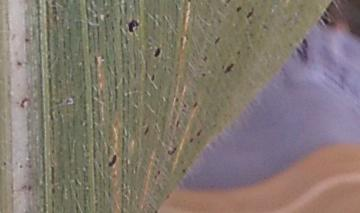tarspot: (126, 18, 140, 34), (48, 165, 57, 185), (222, 62, 234, 76), (107, 153, 118, 168), (19, 97, 31, 109), (152, 46, 161, 59), (246, 6, 254, 20), (166, 146, 177, 156), (142, 125, 149, 137), (92, 54, 99, 66), (195, 128, 204, 137), (174, 118, 183, 127), (213, 35, 221, 45), (118, 15, 123, 29), (93, 16, 101, 24), (202, 55, 209, 64), (149, 72, 156, 81), (235, 5, 242, 14), (222, 1, 231, 8), (200, 71, 207, 79), (191, 101, 198, 109), (2, 160, 9, 168), (17, 162, 24, 170), (51, 6, 57, 15), (235, 49, 242, 56), (247, 19, 254, 26), (180, 107, 187, 114), (16, 60, 22, 68), (23, 37, 31, 43), (155, 168, 161, 176), (180, 101, 188, 107), (27, 184, 33, 192), (50, 186, 56, 194), (87, 46, 92, 55), (181, 167, 187, 174), (188, 137, 194, 144), (174, 96, 180, 103), (97, 162, 103, 169), (50, 1, 58, 6), (104, 13, 110, 19), (50, 148, 55, 155), (56, 109, 61, 115), (152, 175, 157, 181), (152, 209, 158, 213), (186, 1, 192, 4)
